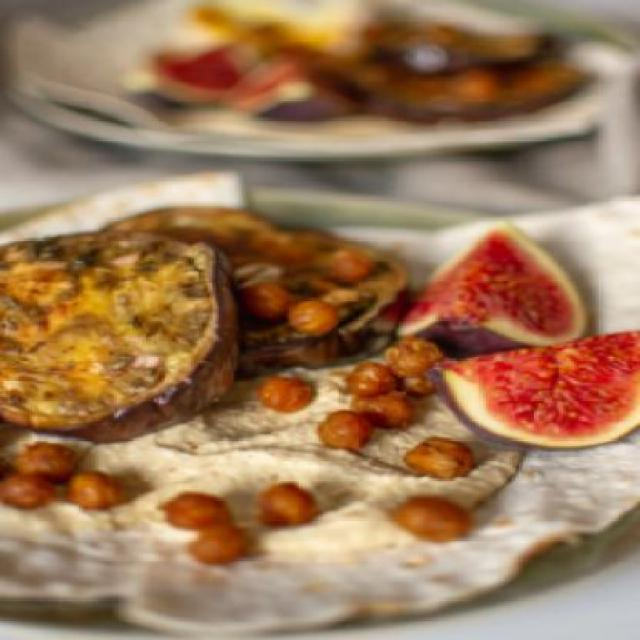eggplant: (2, 193, 420, 438), (353, 14, 590, 118)
hummus: (3, 305, 526, 617)
